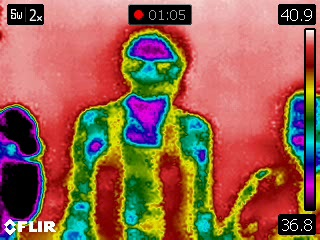human: (57, 28, 218, 240), (223, 88, 320, 240), (1, 91, 47, 240)
